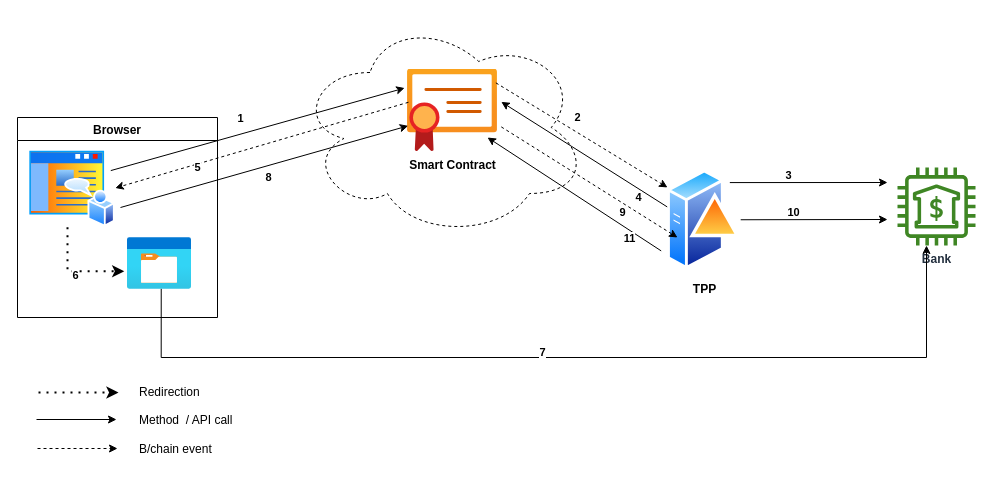
Some shapes in this 993 by 482 pixel diagram are drawn without their labels. The shapes that lost their labels are listed below. From the top down, each one's centre as x and y in pixels, then its label:
the point at 71,187: dApp & Wallet
the point at 159,263: Consent
